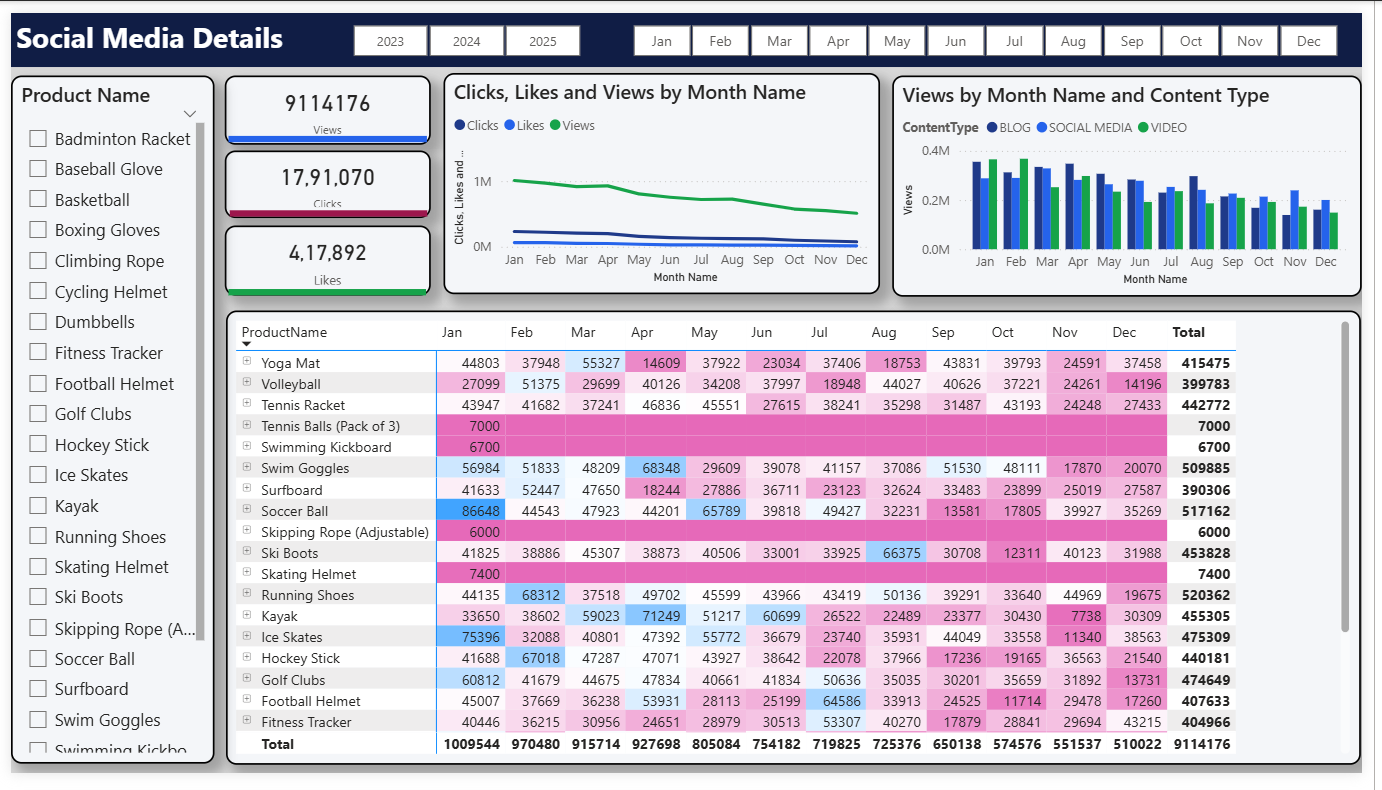

What the dashboard file says about the page in this screenshot:
{"tool":"powerbi","page":{"name":"Social Media Details","canvas":[1280,720],"ordinal":2},"visuals":[{"type":"textbox","box":[0,0,1280,51],"z":0},{"type":"card","fields":{"Values":["_Calculations.Views"]},"box":[202.6,58.7,195.5,65.6],"z":1000},{"type":"card","fields":{"Values":["_Calculations.Clicks"]},"box":[202.6,130.2,195.5,64.4],"z":2000},{"type":"card","fields":{"Values":["_Calculations.Likes"]},"box":[202.6,201.7,195.5,66.8],"z":3000},{"type":"slicer","fields":{"Values":["Calendar.Year"]},"box":[298,4.8,264.6,42.9],"z":4000},{"type":"slicer","fields":{"Values":["Calendar.MonthNameShort"]},"box":[563.2,4.9,716.6,42.9],"z":5000},{"type":"lineChart","title":"Clicks, Likes and Views by Month Name","fields":{"Category":["Calendar.MonthNameShort"],"Y":["_Calculations.Clicks","_Calculations.Likes","_Calculations.Views"]},"box":[410.1,57.2,413.6,209.8],"z":6000},{"type":"clusteredColumnChart","title":"Views by Month Name and Content Type","fields":{"Y":["_Calculations.Views"],"Category":["Calendar.MonthNameShort"],"Series":["fact_engagement_data.ContentType"]},"box":[834.4,59.6,444.6,209.8],"z":7000},{"type":"pivotTable","fields":{"Values":["_Calculations.Views"],"Rows":["dim_products.ProductName","fact_engagement_data.ContentType"],"Columns":["Calendar.MonthNameShort"]},"box":[203.8,281.3,1075.2,430.3],"z":8000},{"type":"slicer","title":"Product Name","fields":{"Values":["products.ProductName"]},"box":[0,59.6,193.1,652],"z":9000},{"type":"shape","box":[206.2,54.8,188.3,129.9],"z":10000},{"type":"shape","box":[207.4,125.2,187.1,128.7],"z":11000},{"type":"shape","box":[206.2,200.3,187.1,128.7],"z":12000}]}

Visuals, with their boxes in screenshot pixels (x1, y1, x2, y2), scaled from the page's 1280x720 canvas onto the 1382x790 screenshot:
textbox: select_region(0, 0, 1381, 56)
card - _Calculations.Views: select_region(219, 64, 430, 136)
card - _Calculations.Clicks: select_region(219, 143, 430, 214)
card - _Calculations.Likes: select_region(219, 221, 430, 295)
slicer - Calendar.Year: select_region(322, 5, 607, 52)
slicer - Calendar.MonthNameShort: select_region(608, 5, 1381, 52)
"Clicks, Likes and Views by Month Name" lineChart: select_region(443, 63, 889, 293)
"Views by Month Name and Content Type" clusteredColumnChart: select_region(901, 65, 1381, 296)
pivotTable - _Calculations.Views x dim_products.ProductName: select_region(220, 309, 1381, 781)
"Product Name" slicer: select_region(0, 65, 208, 781)
shape: select_region(223, 60, 426, 203)
shape: select_region(224, 137, 426, 279)
shape: select_region(223, 220, 425, 361)
